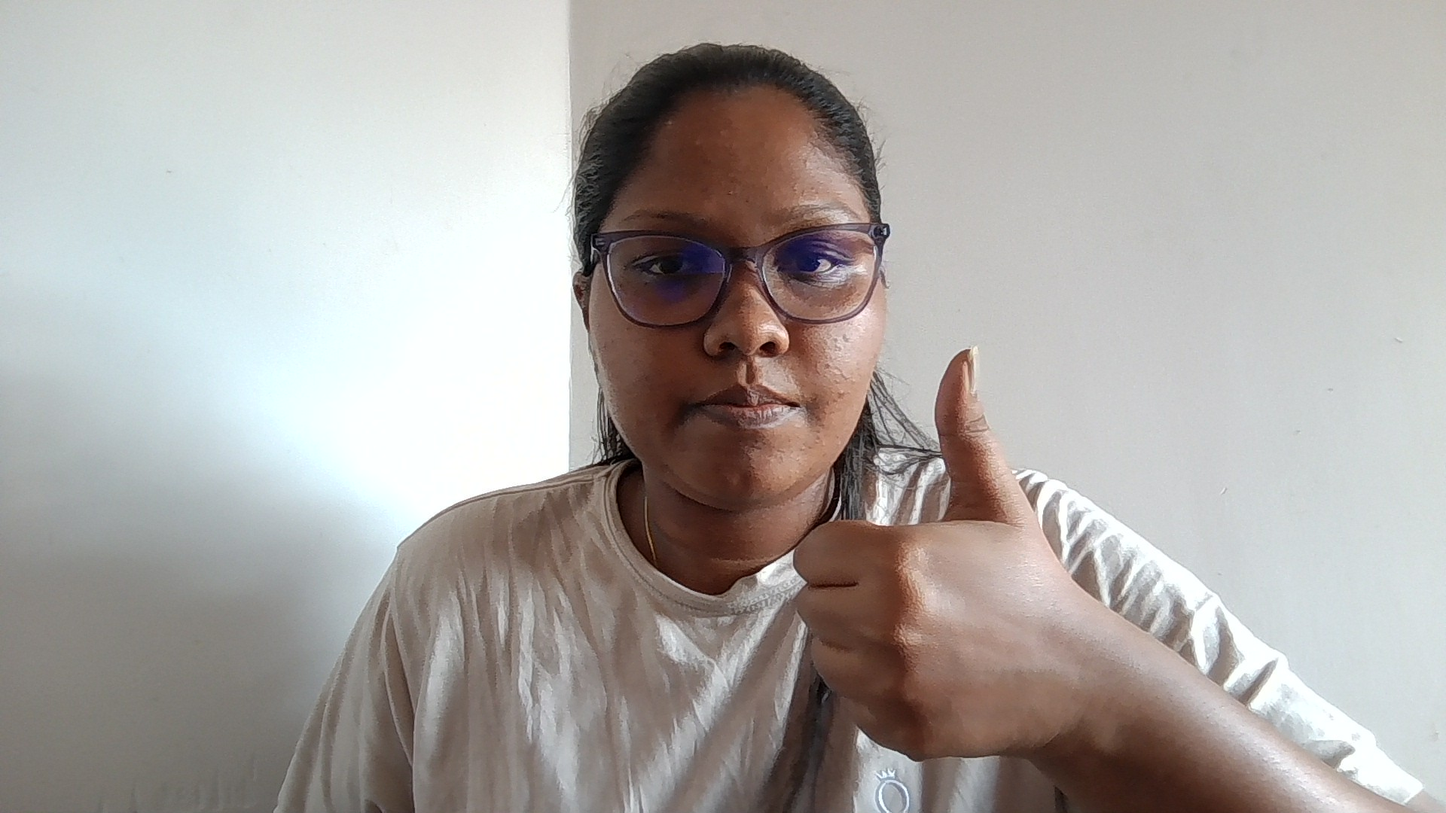Thumbs Up: (759, 292, 1153, 784)
